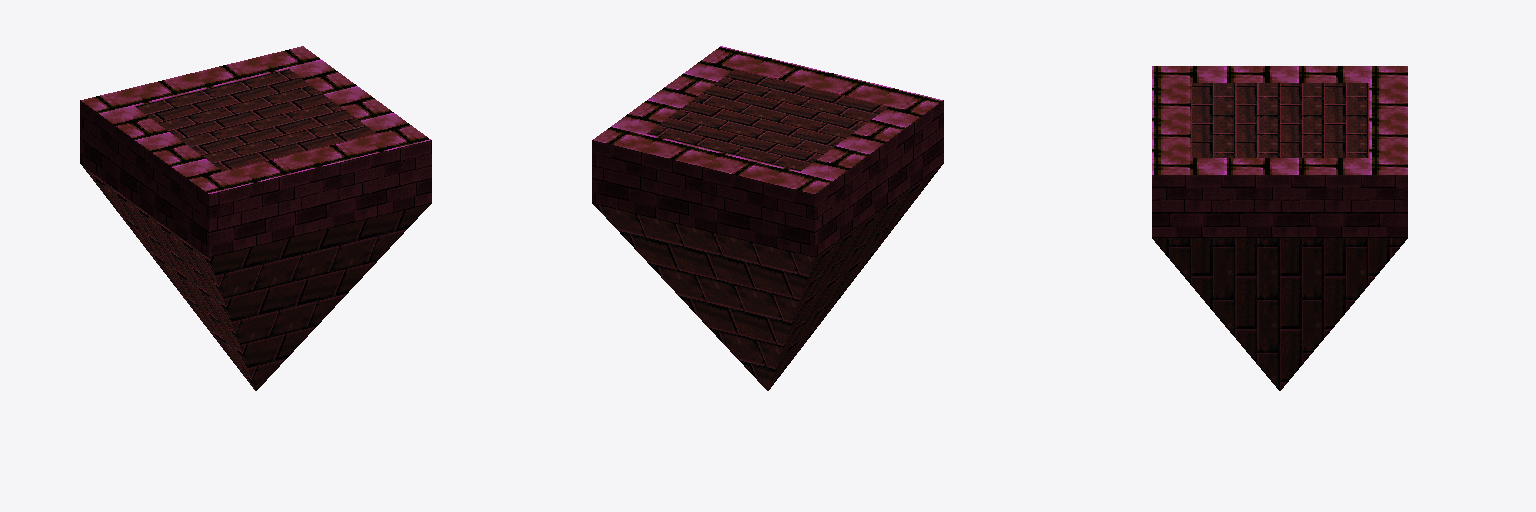
3 renders of one model, left to right at view 1: azimuth 30°, elevation 25°; view 2: azimuth 150°, elevation 25°; view 3: azimuth 270°, elevation 25°, orthographic.
Parts seen in each view (by area): view 1: Mesh1 Component_5_1 Model; view 2: Mesh1 Component_5_1 Model; view 3: Mesh1 Component_5_1 Model.
Boxes of the visible parts, x1,y1,x2,y2 form: Mesh1 Component_5_1 Model: [80, 46, 431, 390]; Mesh1 Component_5_1 Model: [592, 46, 943, 390]; Mesh1 Component_5_1 Model: [1152, 66, 1407, 390].
Size of the model in its own units: 510 by 594 by 510.
3 materials, 3 textured.